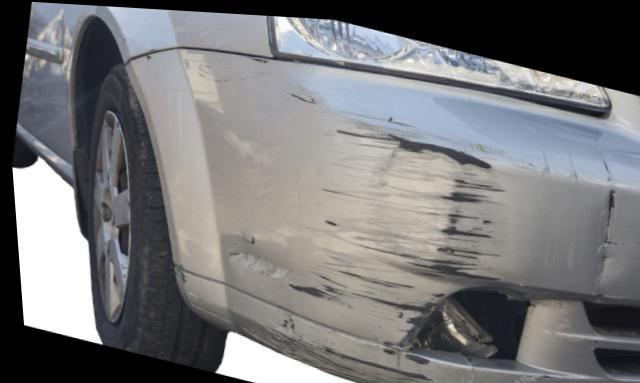dent: (582, 177, 633, 278)
rub: (169, 44, 589, 383)
